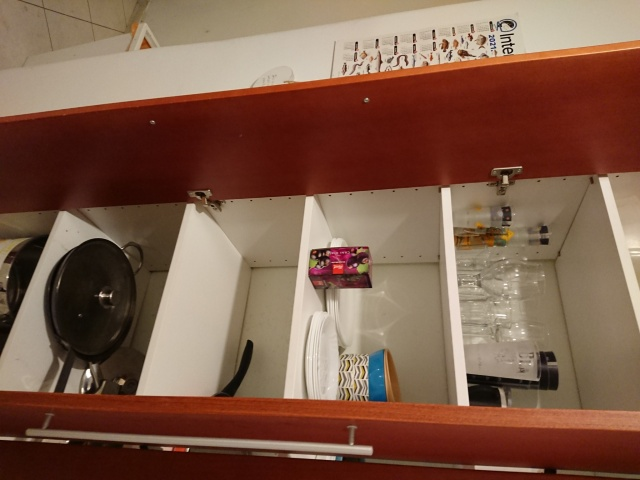Franck Black Currant Tea 60g: (306, 243, 375, 291)
